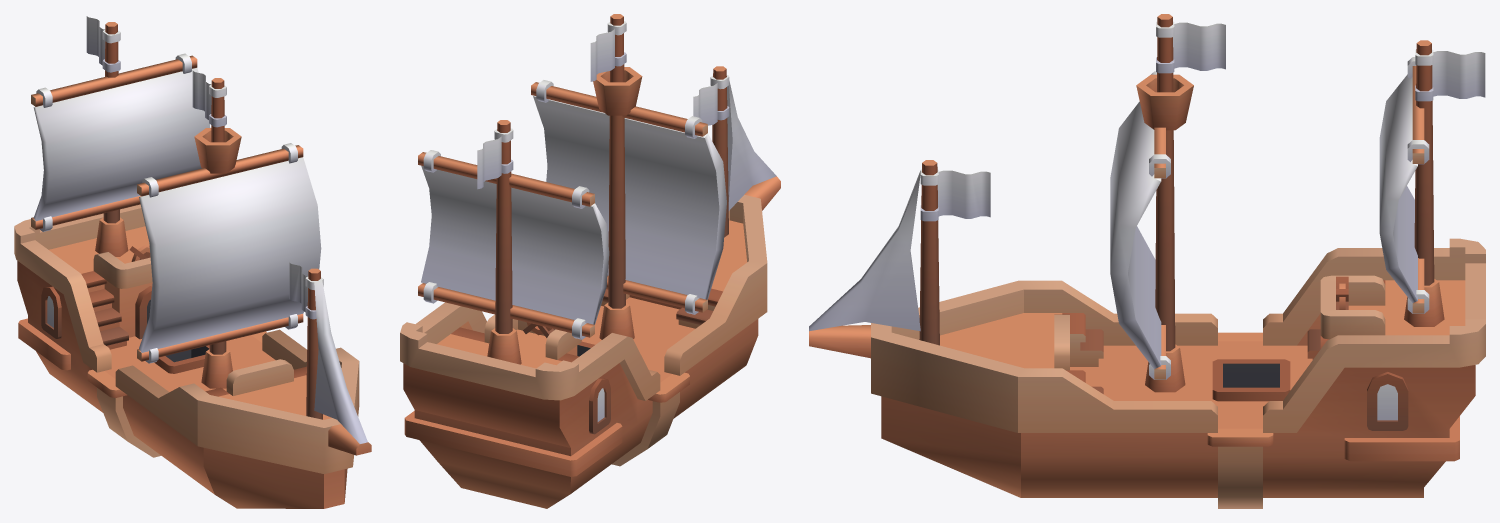
File: ship-large.glb
The picture shows the model from 3 angles, left to right: view 1: azimuth 30°, elevation 25°; view 2: azimuth 150°, elevation 25°; view 3: azimuth 270°, elevation 25°; orthographic projection. The views are drawn at different scales.
Visible parts, largest first — view 1: ship-large; view 2: ship-large; view 3: ship-large.
Boxes of the visible parts, left/top/right/bottom form: ship-large: left=14, top=16, right=371, bottom=508; ship-large: left=400, top=14, right=780, bottom=508; ship-large: left=809, top=14, right=1485, bottom=508.
Bounding box in the file's own units: 4.8 × 9.96 × 13.1.
1 material, 1 textured.
